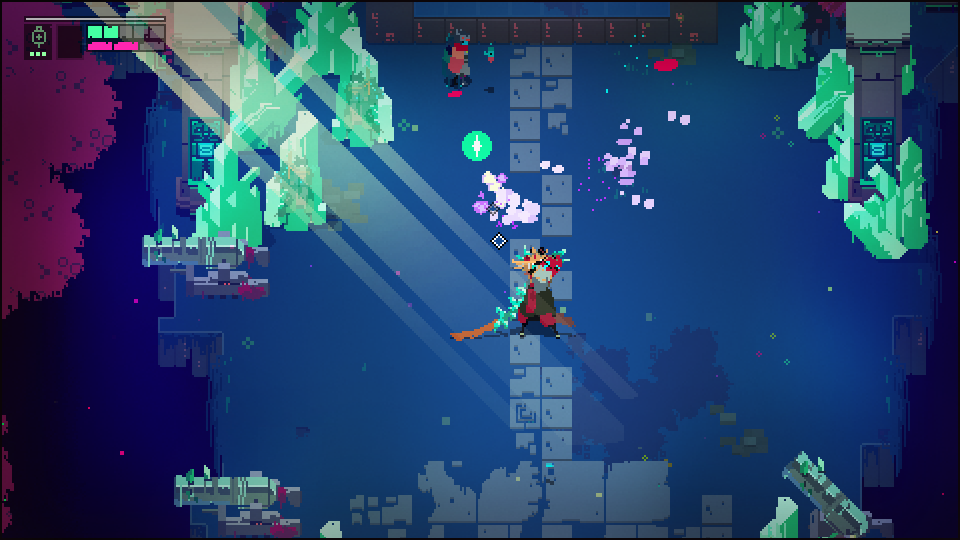hanged_man: (490, 242, 577, 349)
hanged_shot: (461, 130, 494, 166)
player: (446, 26, 475, 87)
